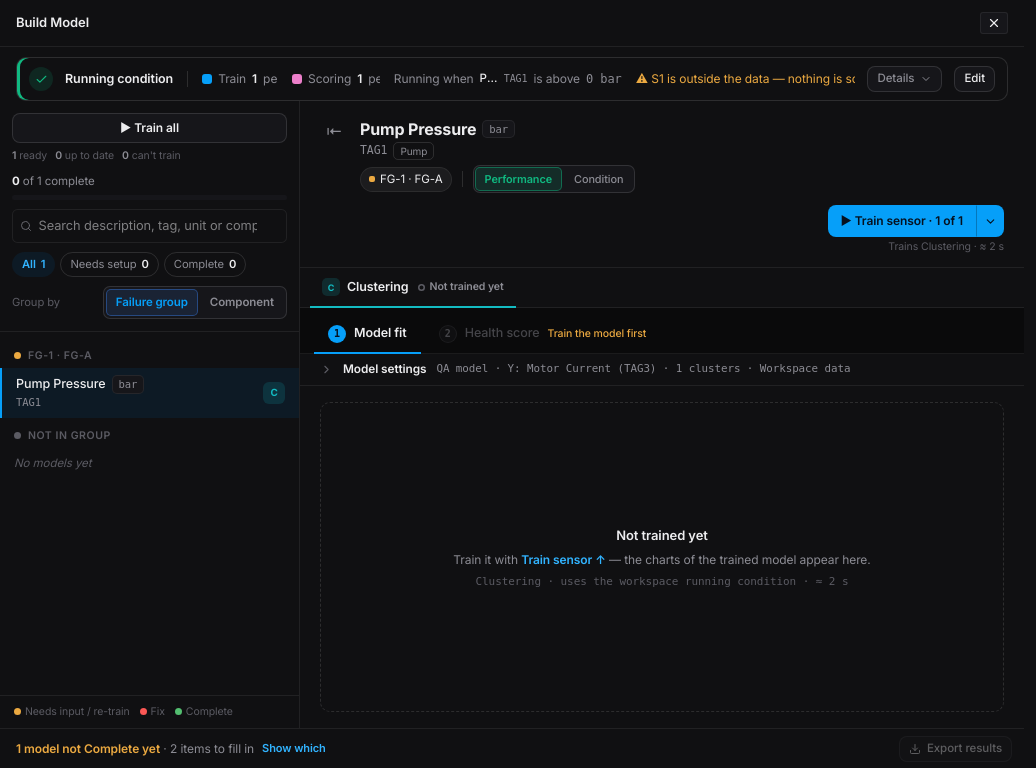
Test: (2) a successful Train with no pending draft leaves the model Trained-and-fresh › Clustering created on the Dashboard with Y picked (3 default cluster ranges, no criteria)
Expected: the element with test id "rc-card" is shown, [16, 57, 1008, 101]
Click the button with test id "train-sensor": (902, 221) [828, 205, 976, 237]
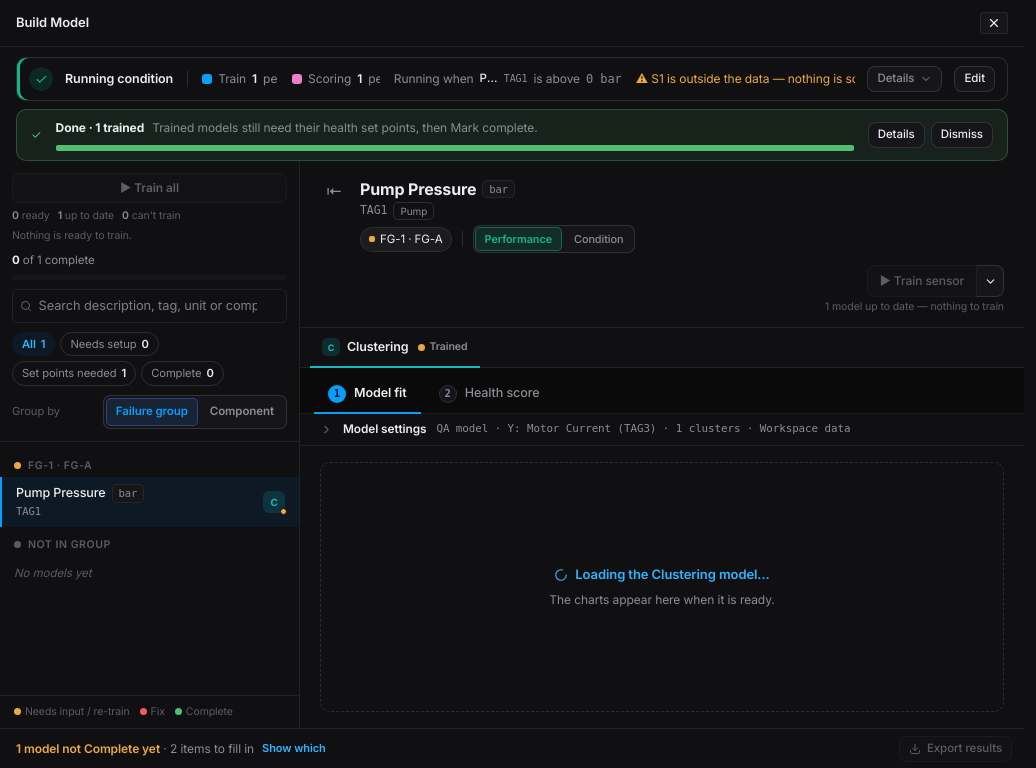
Expected: the text with test id "tab-words-" reads "Trained", [430, 340, 468, 353]
